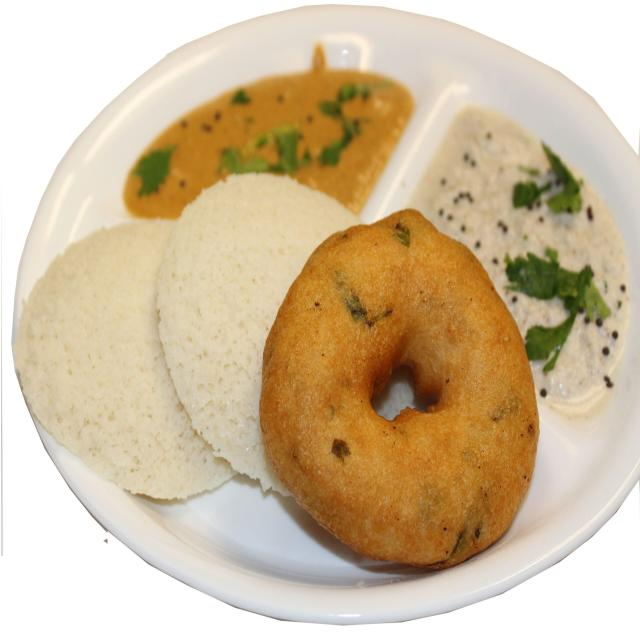idli: (22, 218, 229, 508), (162, 166, 326, 501)
